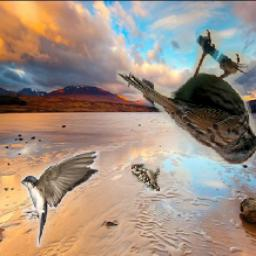Sparrow: (116, 31, 256, 166)
Swallow: (20, 151, 99, 247)
Woodpecker: (132, 165, 160, 192)
